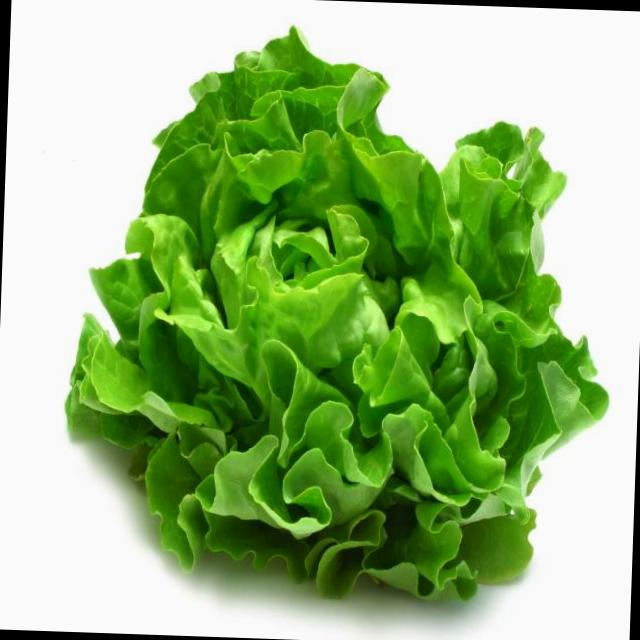Lettuce-Ready-to-Harvest: (66, 29, 606, 598)
